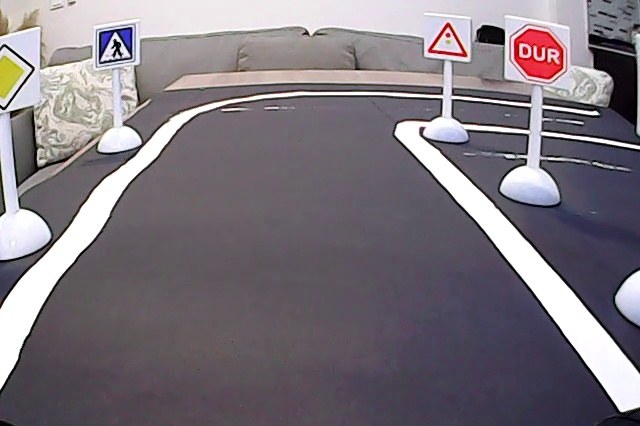pedestrian crossing: (97, 25, 137, 68)
red light: (425, 16, 471, 62)
stop sign: (506, 22, 571, 86)
